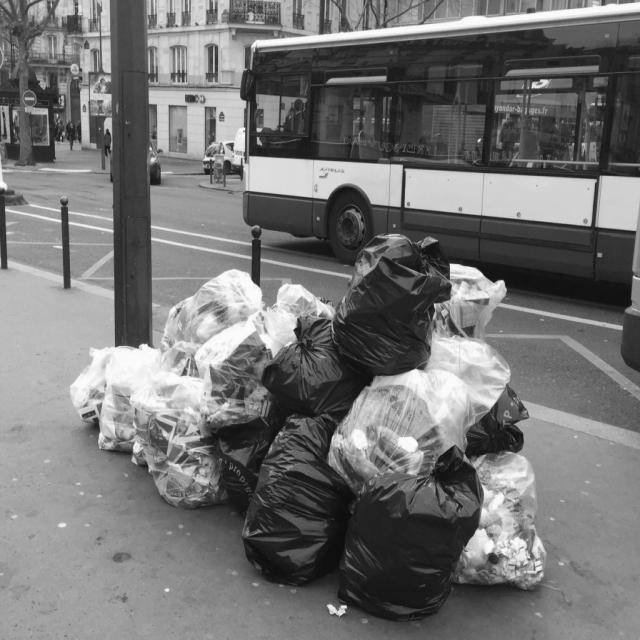high trash: (70, 235, 545, 619)
